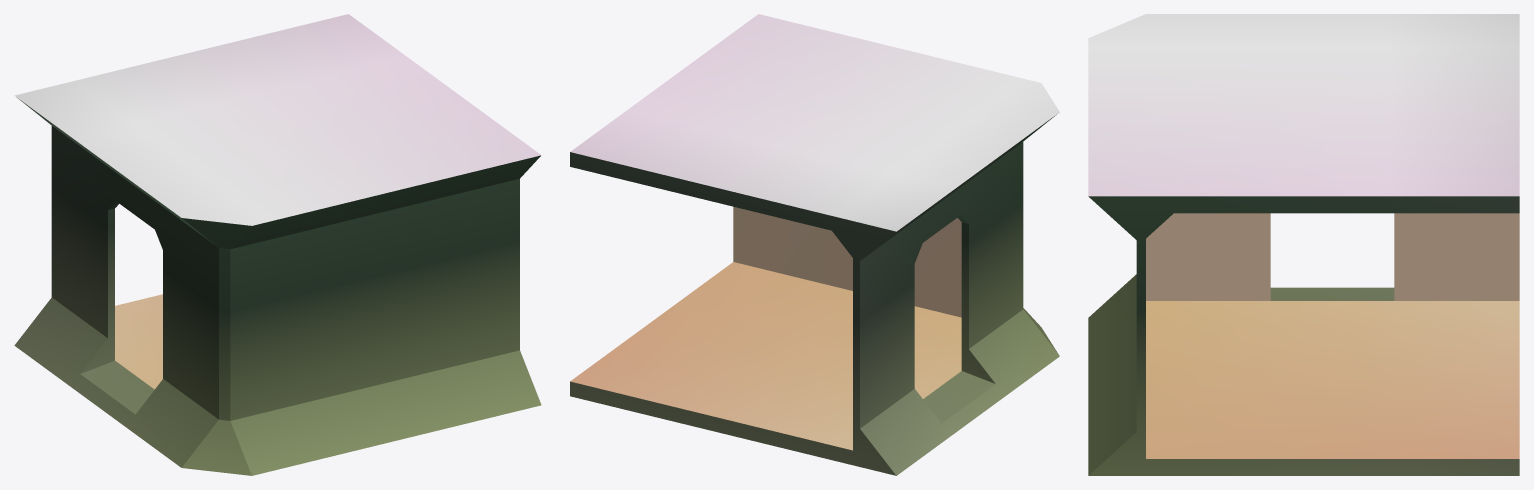
The model's file is R_Corner_L_Door.fbx.
The picture shows the model from 3 angles, left to right: view 1: azimuth 30°, elevation 25°; view 2: azimuth 150°, elevation 25°; view 3: azimuth 270°, elevation 25°; orthographic projection. The views are drawn at different scales.
Visible parts, largest first — view 1: R_Corner_L_Door; view 2: R_Corner_L_Door; view 3: R_Corner_L_Door.
Boxes of the visible parts, box(x1,y1,x2,y2) form: R_Corner_L_Door: box(14, 14, 541, 475); R_Corner_L_Door: box(570, 14, 1059, 475); R_Corner_L_Door: box(1088, 14, 1519, 475).
Bounding box in the file's own units: 4.62 × 4.62 × 3.3.
